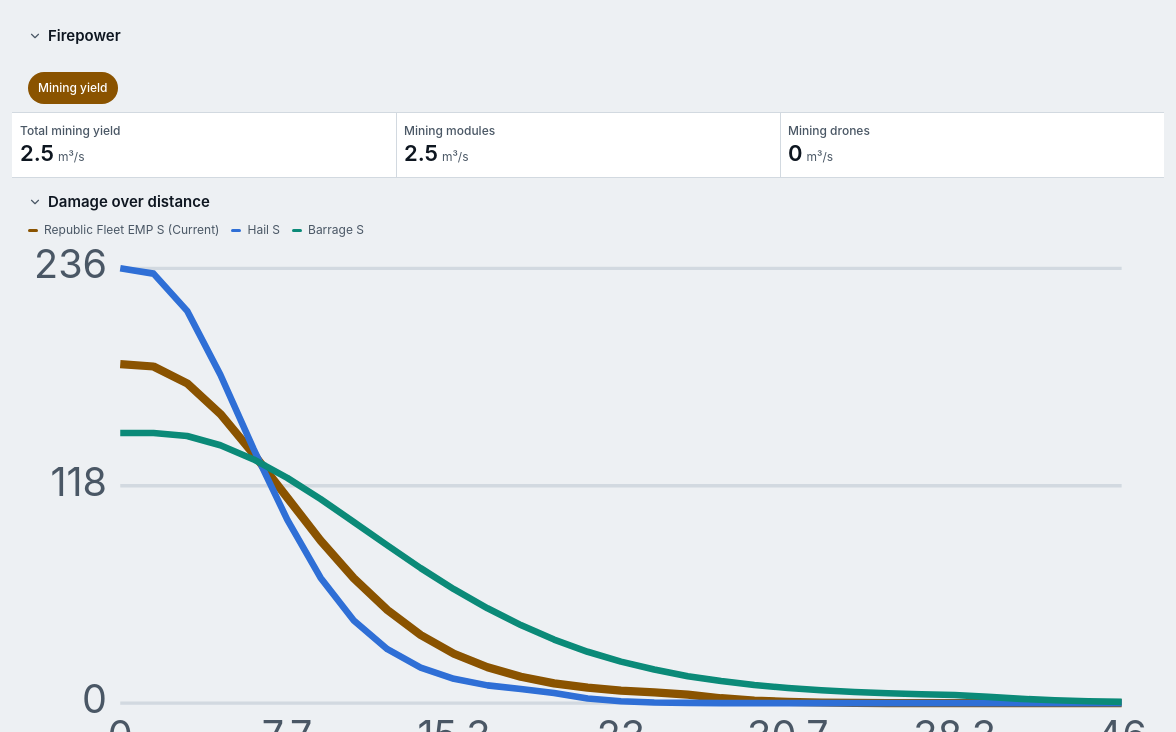
M08 opens firepower for a mining-only fit and lets the pilot switch views
Expected: the text "Total mining yield" is shown, [20, 123, 120, 138]
Expected: the text "m³/s" is shown 3 times, [58, 149, 84, 164]; [442, 149, 468, 164]; [806, 149, 833, 164]
Click the button "Mining yield" at (73, 88), box [28, 72, 118, 104]
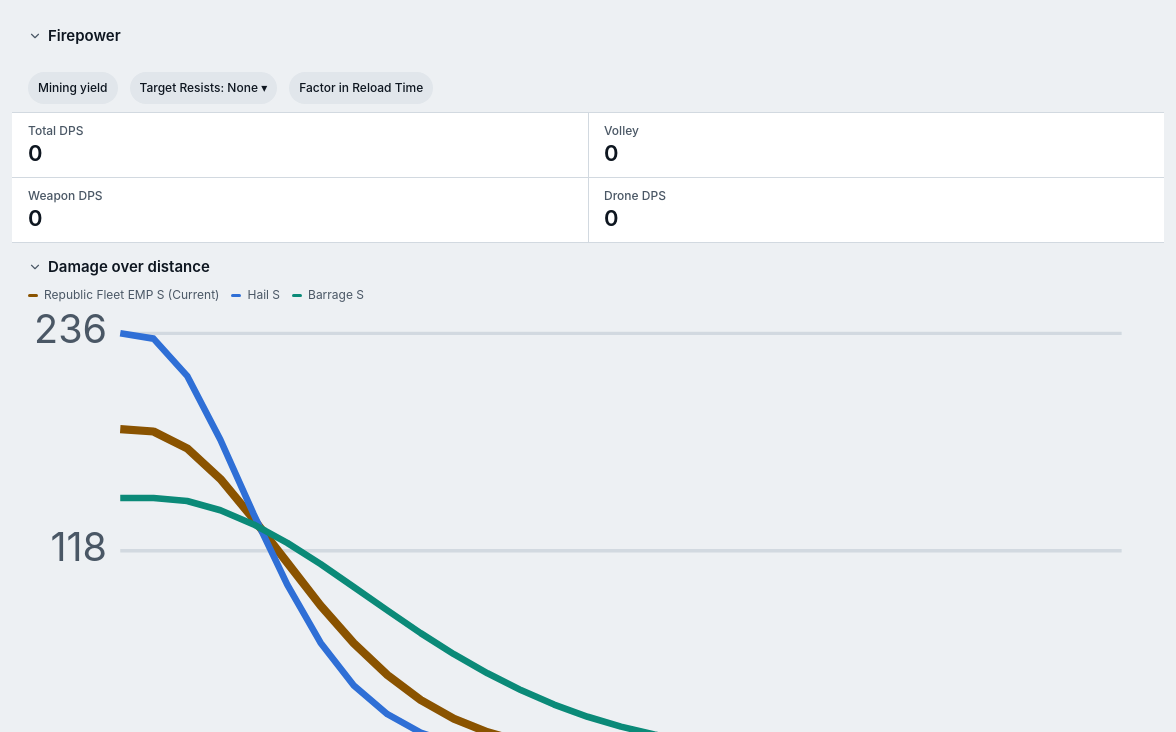
Expected: the text "Weapon DPS" is shown, [28, 188, 103, 203]
